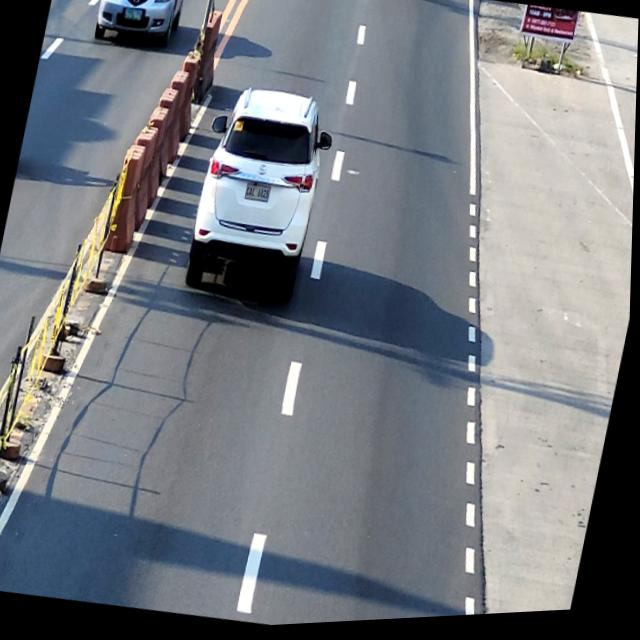Car: (181, 80, 342, 311), (92, 0, 191, 55)
License-Plate: (244, 185, 273, 207), (123, 8, 142, 23)
